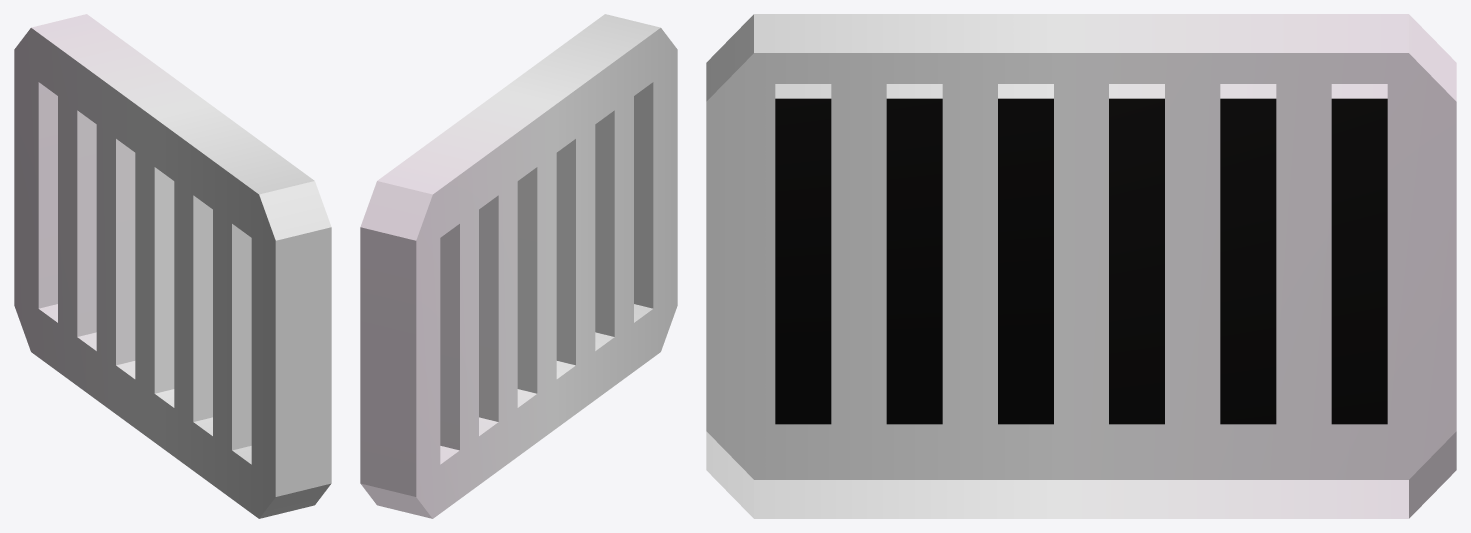
Rendered from Ventilation_grille.fbx.
3 renders of one model, left to right at view 1: azimuth 30°, elevation 25°; view 2: azimuth 150°, elevation 25°; view 3: azimuth 270°, elevation 25°, orthographic. The views are drawn at different scales.
Parts seen in each view (by area): view 1: Ventilation_grille; view 2: Ventilation_grille; view 3: Ventilation_grille.
Part boxes in pixels (x1,y1,x2,y2): Ventilation_grille: [14, 14, 331, 518]; Ventilation_grille: [360, 14, 677, 518]; Ventilation_grille: [706, 14, 1456, 518].
Size of the model in its own units: 6.72 by 37.29 by 54.46.
